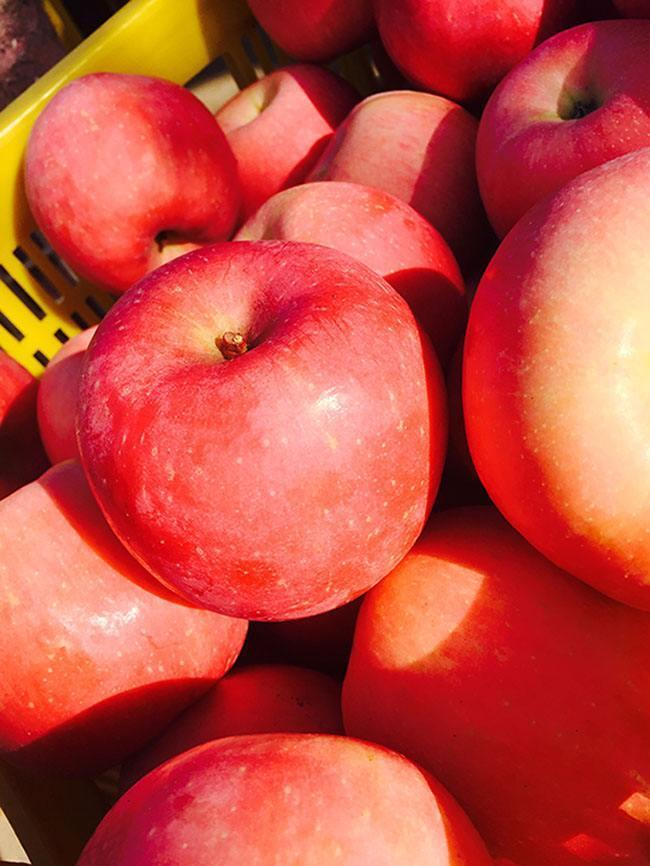apple: (83, 265, 431, 623), (349, 504, 643, 859), (457, 159, 646, 606), (7, 462, 254, 773), (84, 730, 490, 866), (20, 78, 235, 302), (472, 25, 649, 236), (205, 64, 354, 225), (309, 84, 473, 217)
